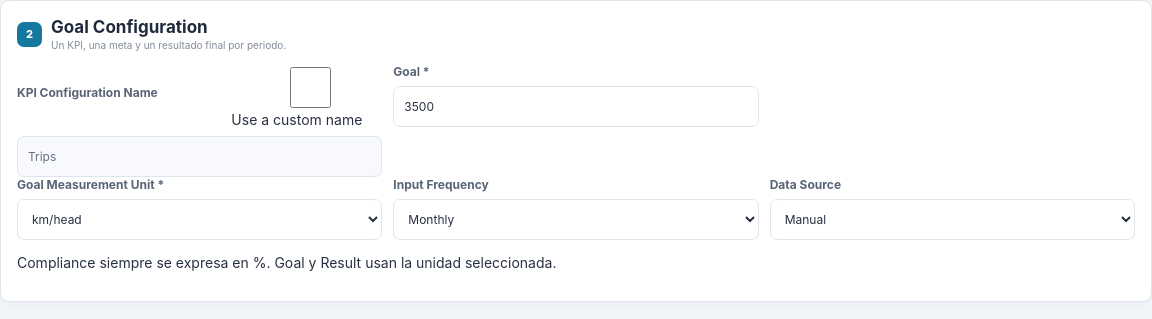
Scenario: Single KPI units › updates the Goal Unit and its explanation
Select "Percentage" in the dropdown labelled "Goal Measurement Unit" at [200, 220], box [17, 199, 382, 240]
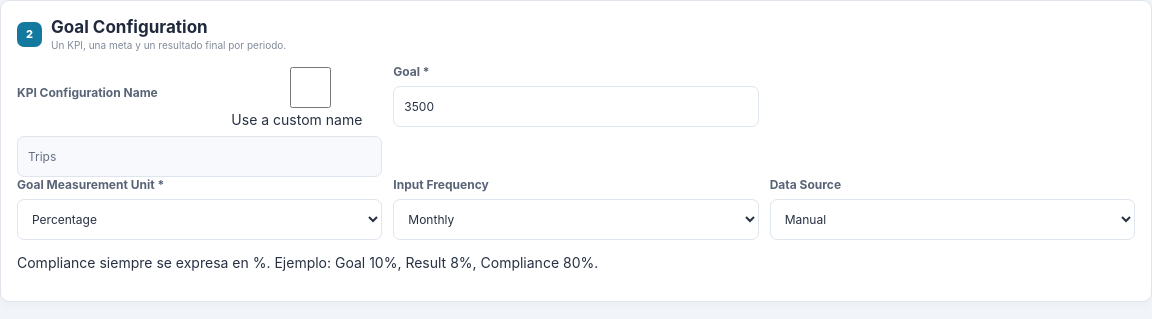
Expected: the text "Goal 10%, Result 8%, Compliance 80%" is shown, [274, 254, 598, 271]
